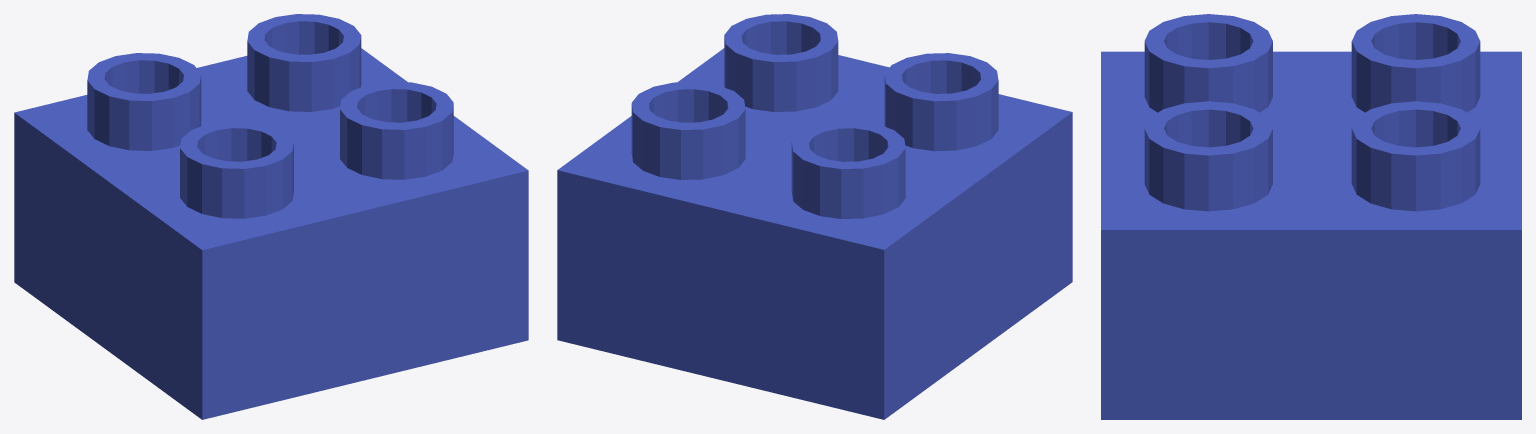
File: block_v02.fbx
3 renders of one model, left to right at view 1: azimuth 30°, elevation 25°; view 2: azimuth 150°, elevation 25°; view 3: azimuth 270°, elevation 25°, orthographic. The views are drawn at different scales.
Parts seen in each view (by area): view 1: Block01; view 2: Block01; view 3: Block01.
Part boxes in pixels (x1,y1,x2,y2): Block01: (14, 14, 528, 419); Block01: (557, 14, 1072, 419); Block01: (1101, 14, 1521, 419).
Bounding box in the file's own units: 130 × 83.69 × 130.
